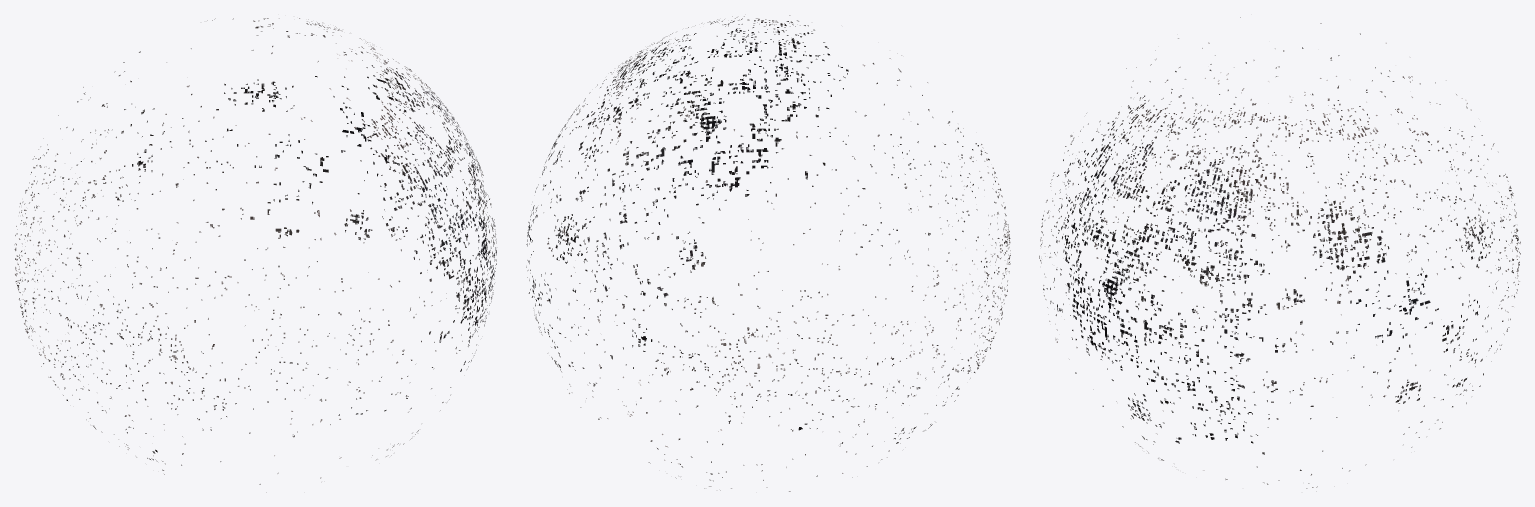
The model's file is moon.glb.
3 renders of one model, left to right at view 1: azimuth 30°, elevation 25°; view 2: azimuth 150°, elevation 25°; view 3: azimuth 270°, elevation 25°, orthographic.
Parts seen in each view (by area): view 1: Sphere; view 2: Sphere; view 3: Sphere.
Boxes of the visible parts, x1=… form: Sphere: x1=14, y1=18, x2=496, y2=492; Sphere: x1=526, y1=14, x2=1010, y2=491; Sphere: x1=1039, y1=17, x2=1520, y2=491.
Bounding box in the file's own units: 1.97 × 1.92 × 1.97.
1 material, 1 textured.
